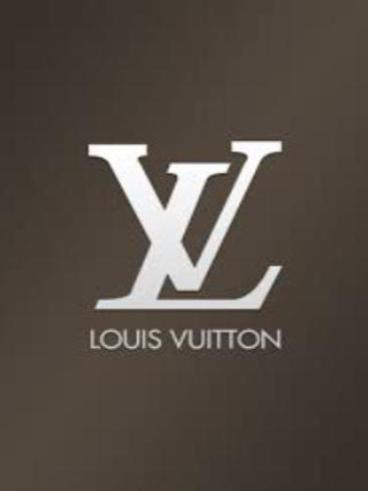LOUIS-VUITTON: (77, 122, 296, 316), (79, 323, 296, 360)
